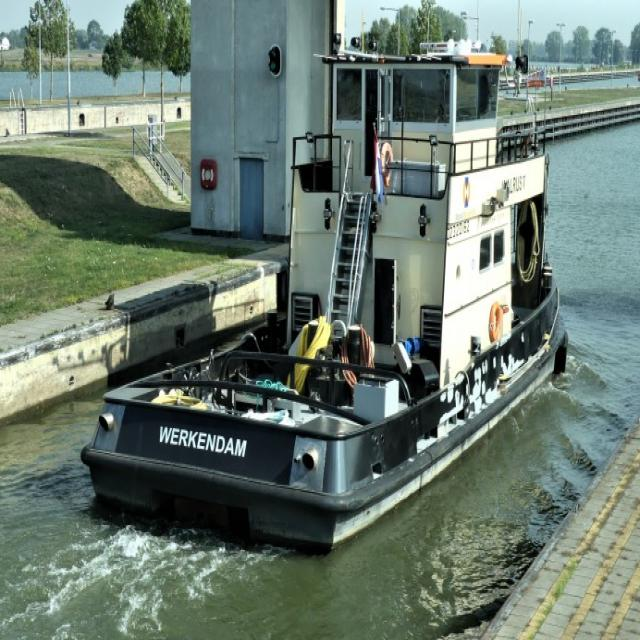tugboat: (80, 34, 574, 562)
